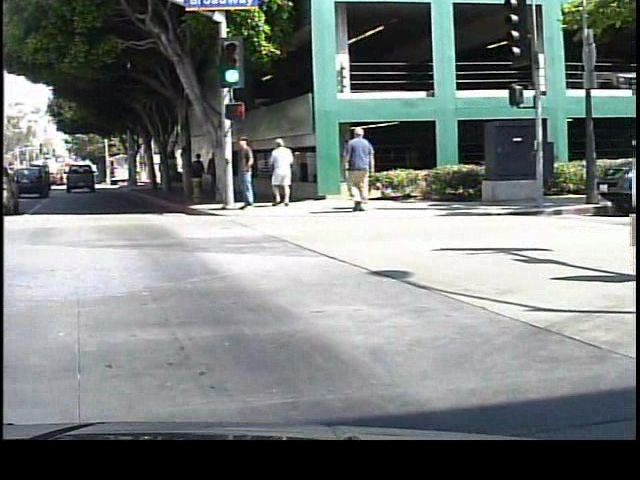person: (342, 122, 383, 213), (231, 131, 260, 216), (266, 135, 296, 209), (190, 149, 206, 197)
